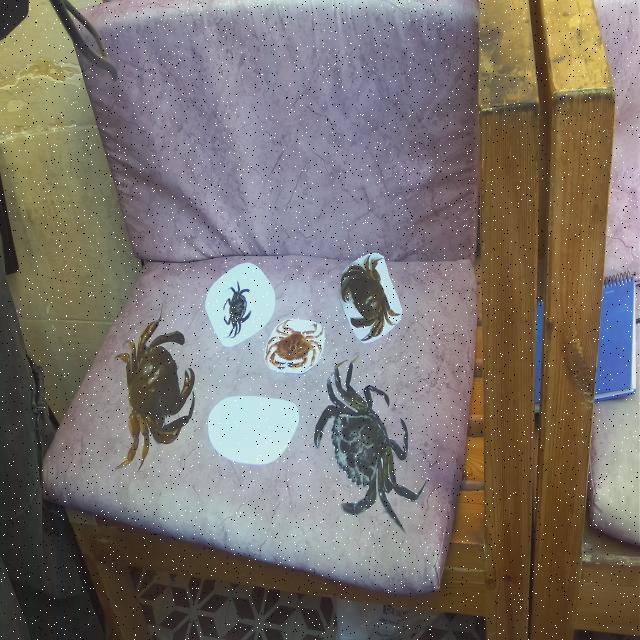European_Green_Crab: (298, 330, 438, 581), (223, 280, 252, 339)
